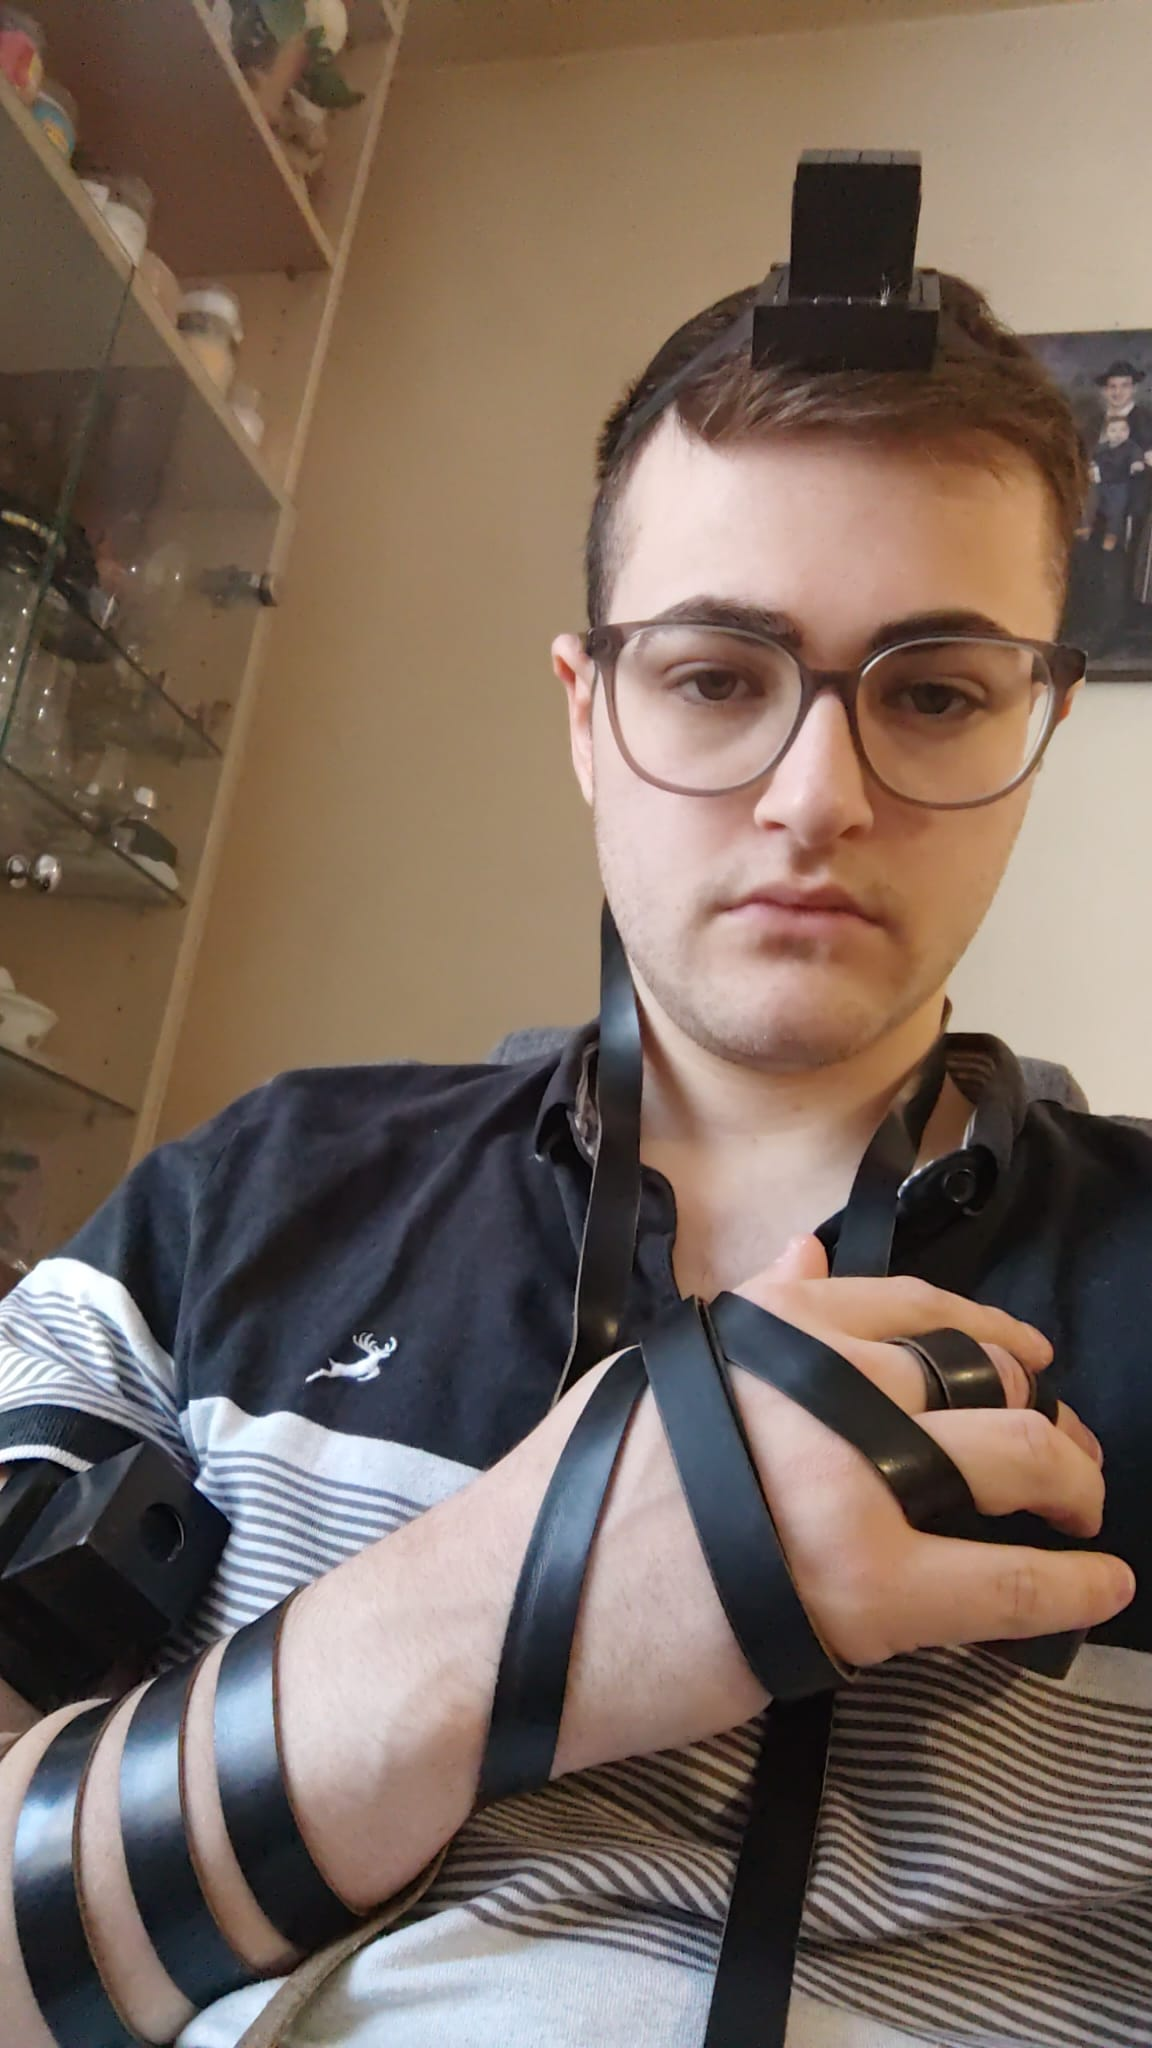tefillin: (6, 1445, 233, 1699), (747, 151, 944, 374)
